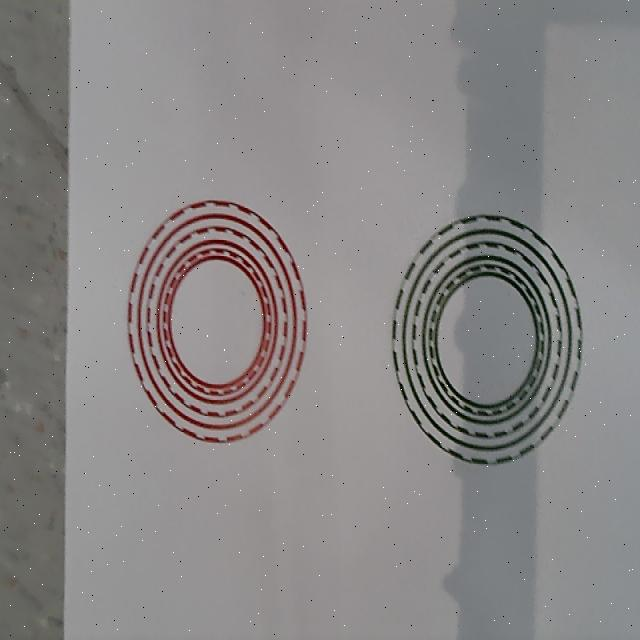g: (392, 214, 582, 466)
red-green-blue: (127, 199, 307, 444)
